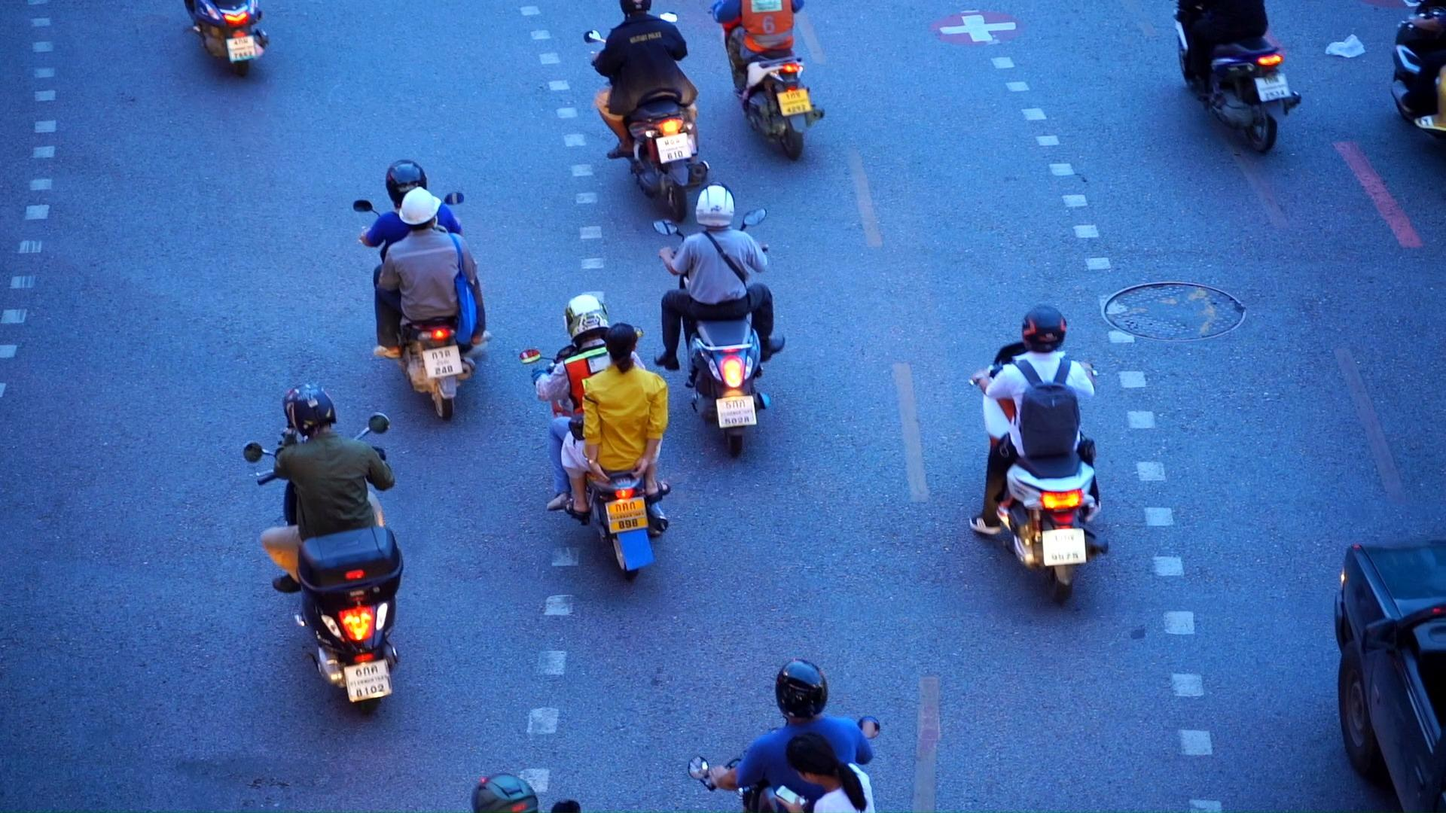driver: (242, 382, 403, 715), (519, 294, 671, 579), (969, 305, 1108, 606), (652, 181, 785, 458), (353, 160, 492, 421), (689, 660, 880, 813), (584, 0, 710, 223), (1172, 0, 1302, 154), (708, 0, 824, 162), (1389, 0, 1446, 141)
helmet: (775, 660, 828, 721), (284, 383, 337, 438), (470, 772, 539, 813), (563, 294, 610, 344), (1021, 305, 1067, 353), (386, 160, 427, 211), (399, 186, 442, 232), (695, 181, 736, 228), (620, 0, 652, 15)
no-helmet: (786, 731, 864, 786), (605, 323, 638, 374)
